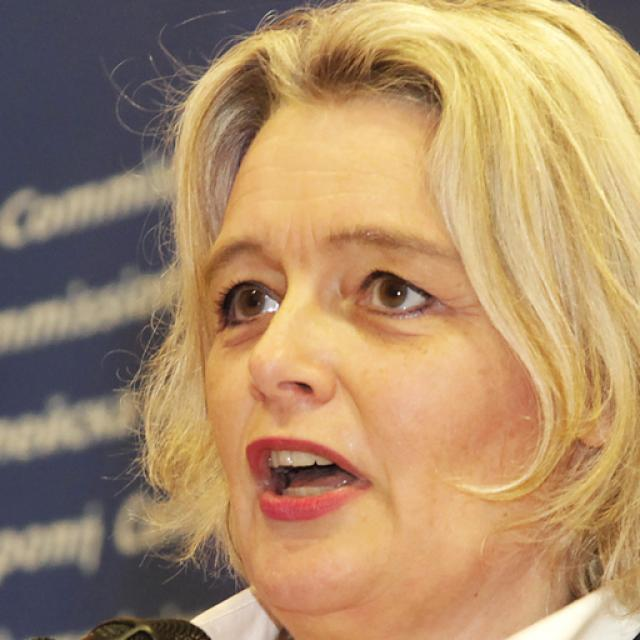surprise: (198, 78, 558, 628)
